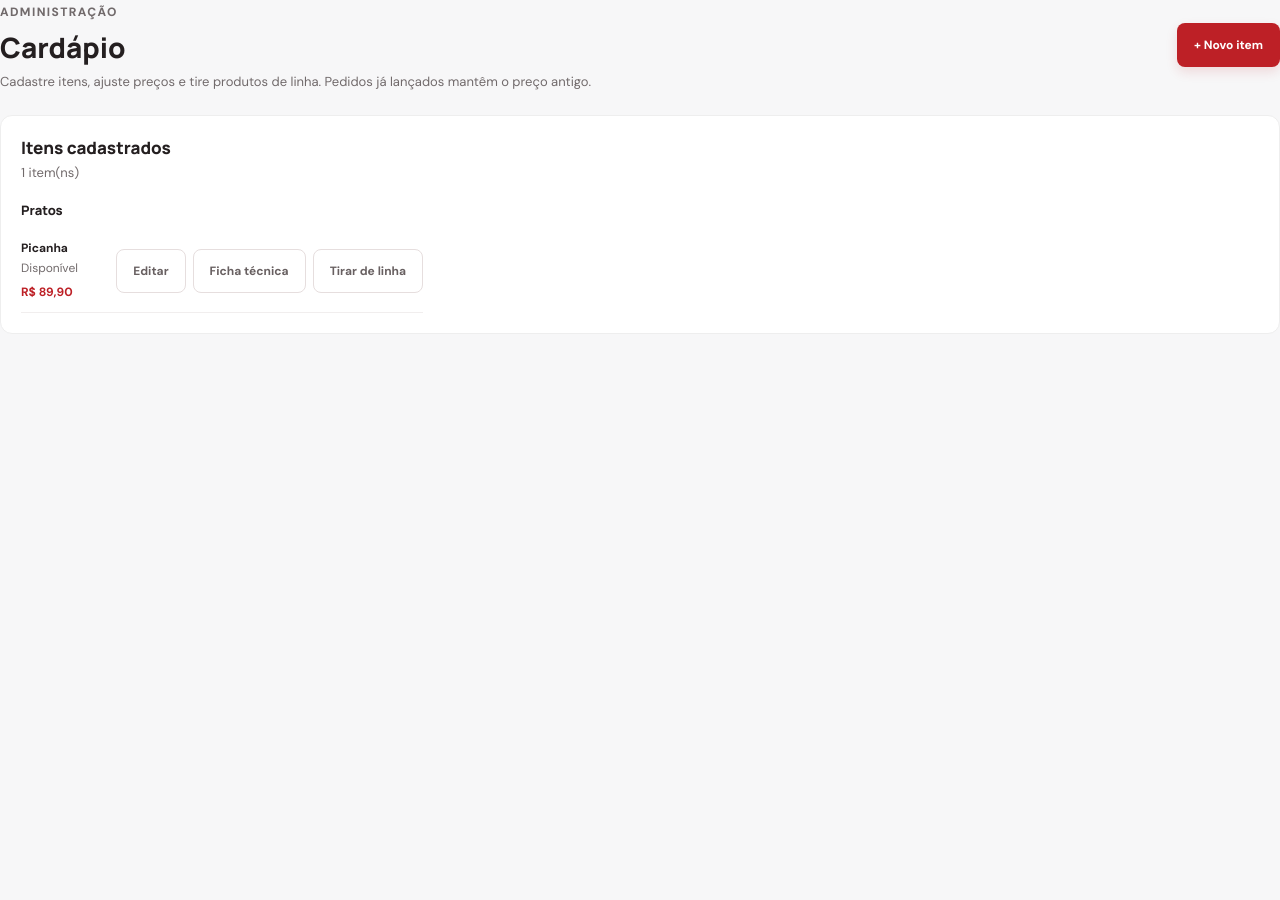
Formulários de administração em modal (spec 012) › Admin do cardápio: editar abre o modal preenchido, salva, fecha e avisa
Click the button "Editar".
click(151, 270)  # box x1=116 y1=248 x2=186 y2=292
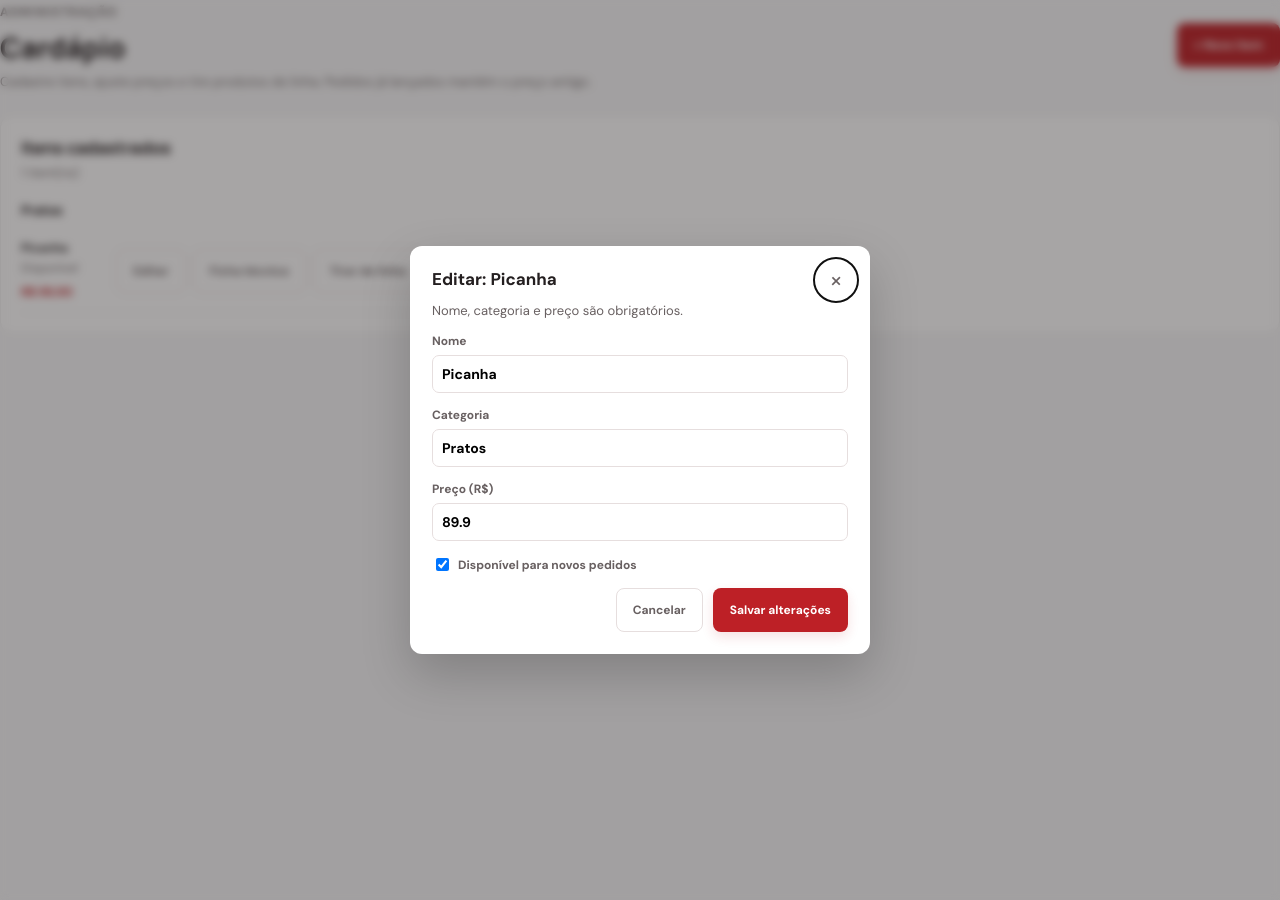
Result: the number field labelled "Preço (R$)" holds "89.9"
Replace the text in the number field labelled "Preço (R$)" with "95" at (640, 522), box x1=432 y1=503 x2=848 y2=541
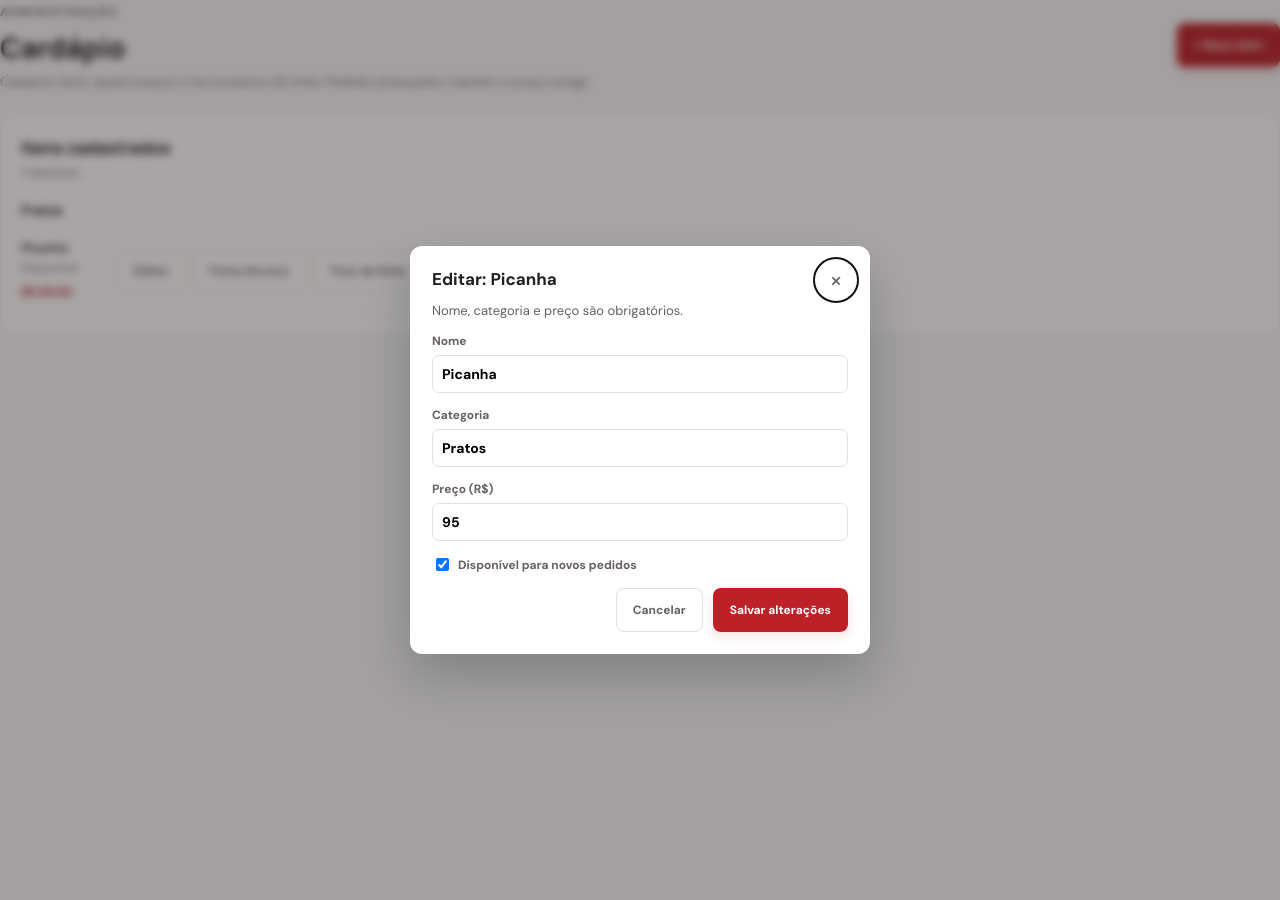
Click the button "Salvar alterações".
click(780, 610)  # box x1=713 y1=588 x2=848 y2=632
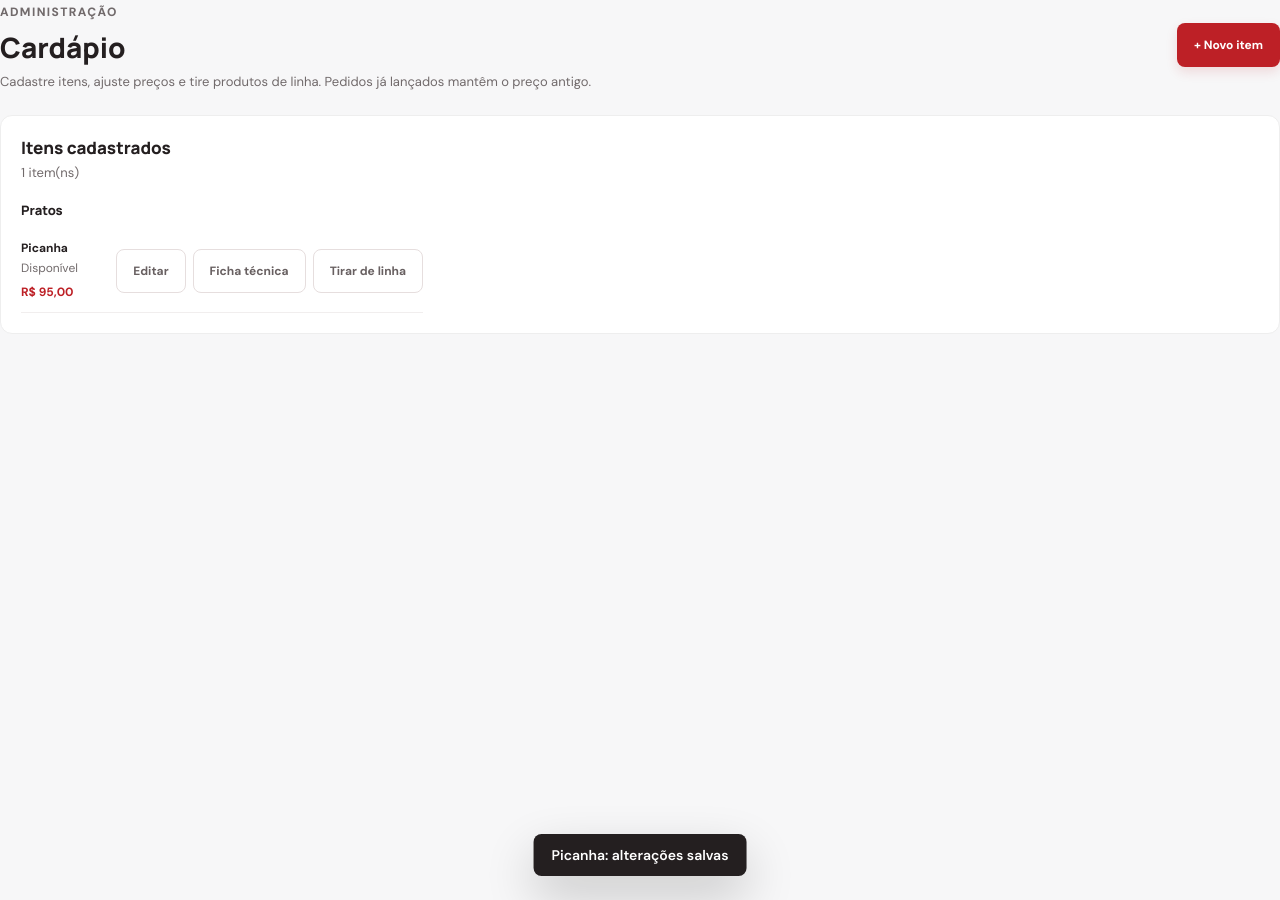
Result: the message reads "Picanha: alterações salvas" at x1=552 y1=846 x2=728 y2=864
Result: the dialog is gone
